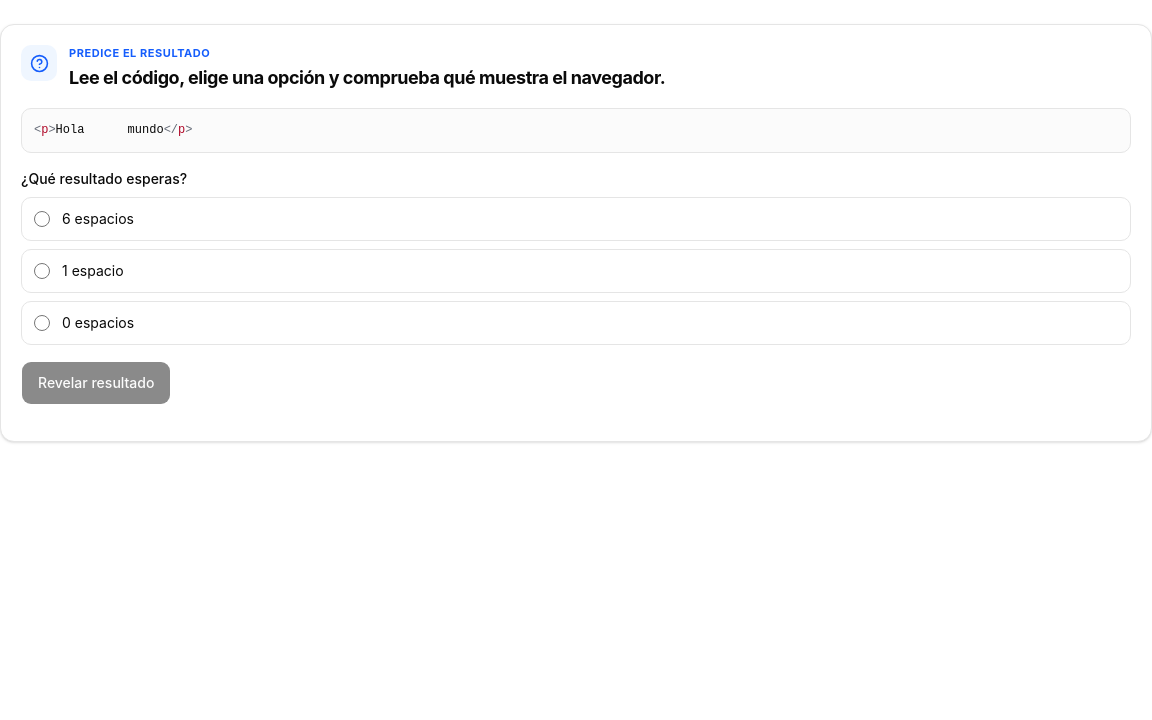
SafeMarkdown con laboratorios › renderiza predice-el-resultado y revela la vista real
The image size is (1152, 720).
Expected: the element named "Código HTML para predecir" is shown, x1=34 y1=122 x2=192 y2=136
Click the radio button labelled "1 espacio" at (42,271), box x1=34 y1=263 x2=50 y2=279
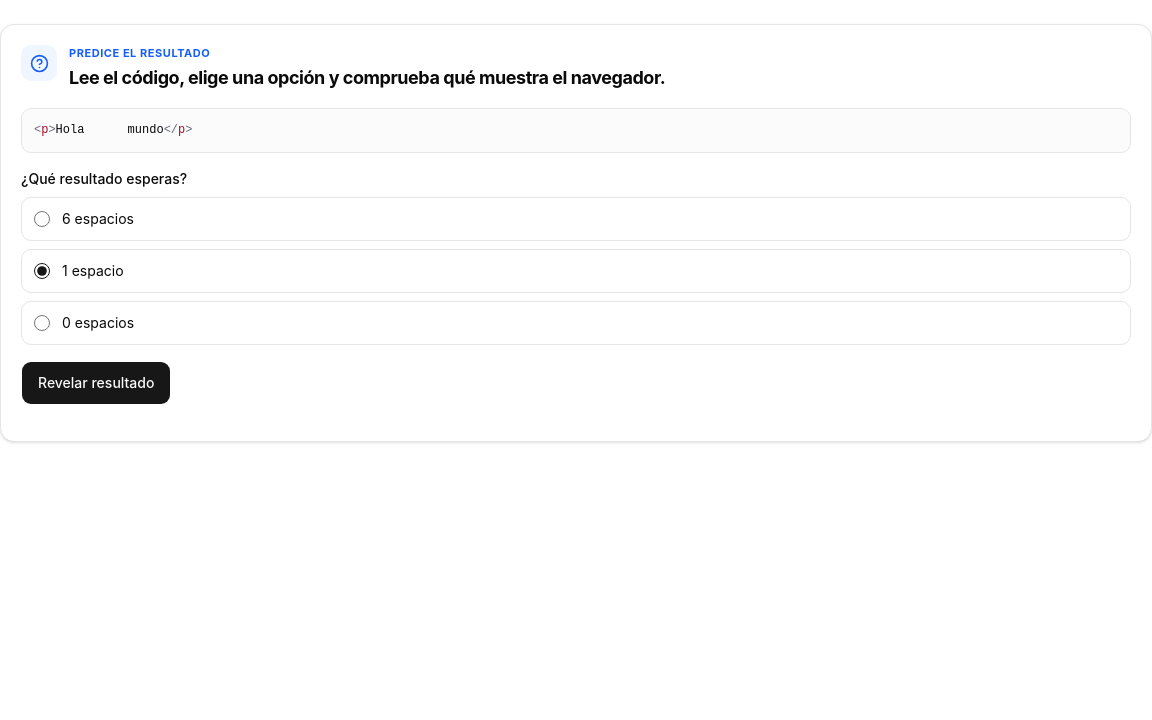
Click the button "Revelar resultado" at (96,383), box x1=21 y1=361 x2=171 y2=405
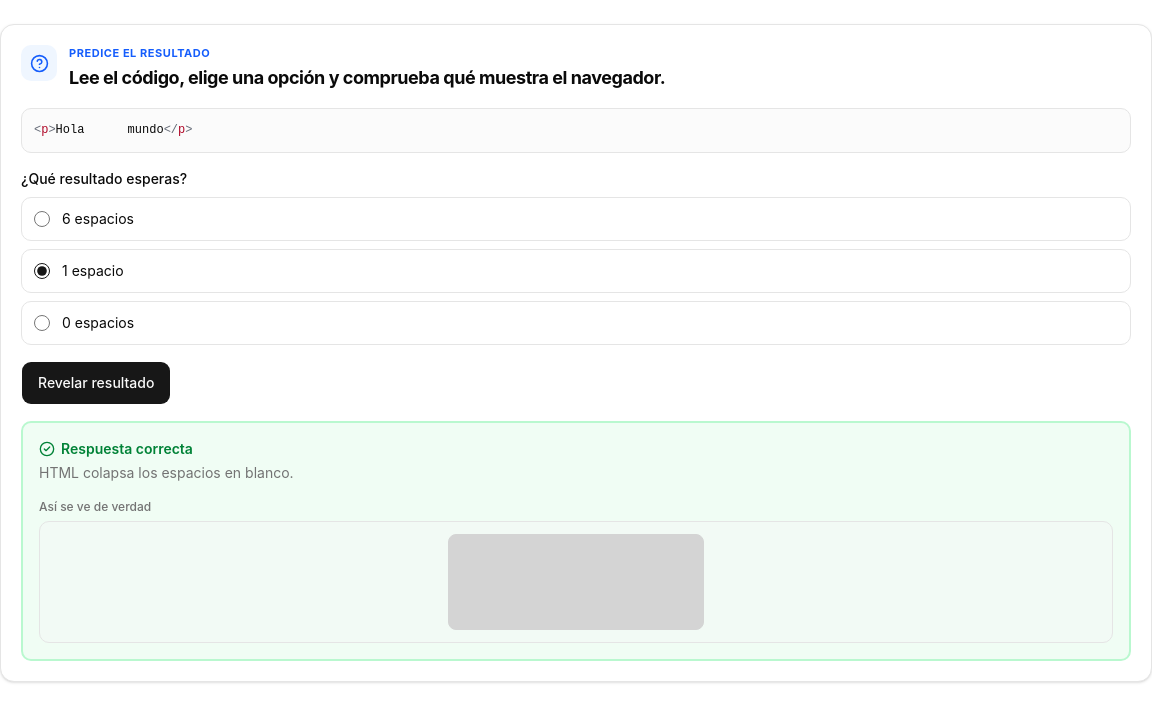
Expected: the text "Respuesta correcta" is shown, x1=39 y1=440 x2=193 y2=457
